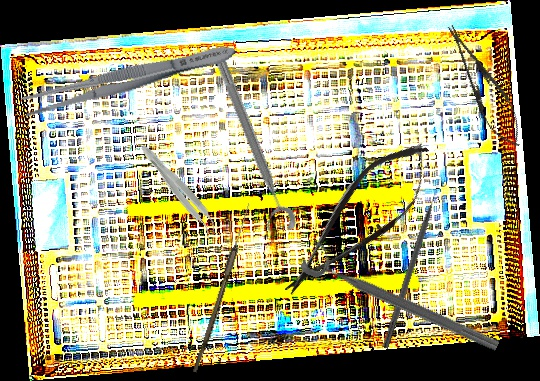Dressing Forceps: (19, 37, 239, 121)
Fixation Ring: (299, 238, 507, 357), (196, 46, 300, 238)
Hook Surgical: (381, 177, 445, 350)
Micro Scissor: (265, 126, 451, 315)
Needle Holder: (436, 17, 532, 155)
Surgical Spoon: (192, 202, 253, 374)
Tissue Forceps: (134, 141, 223, 240)
